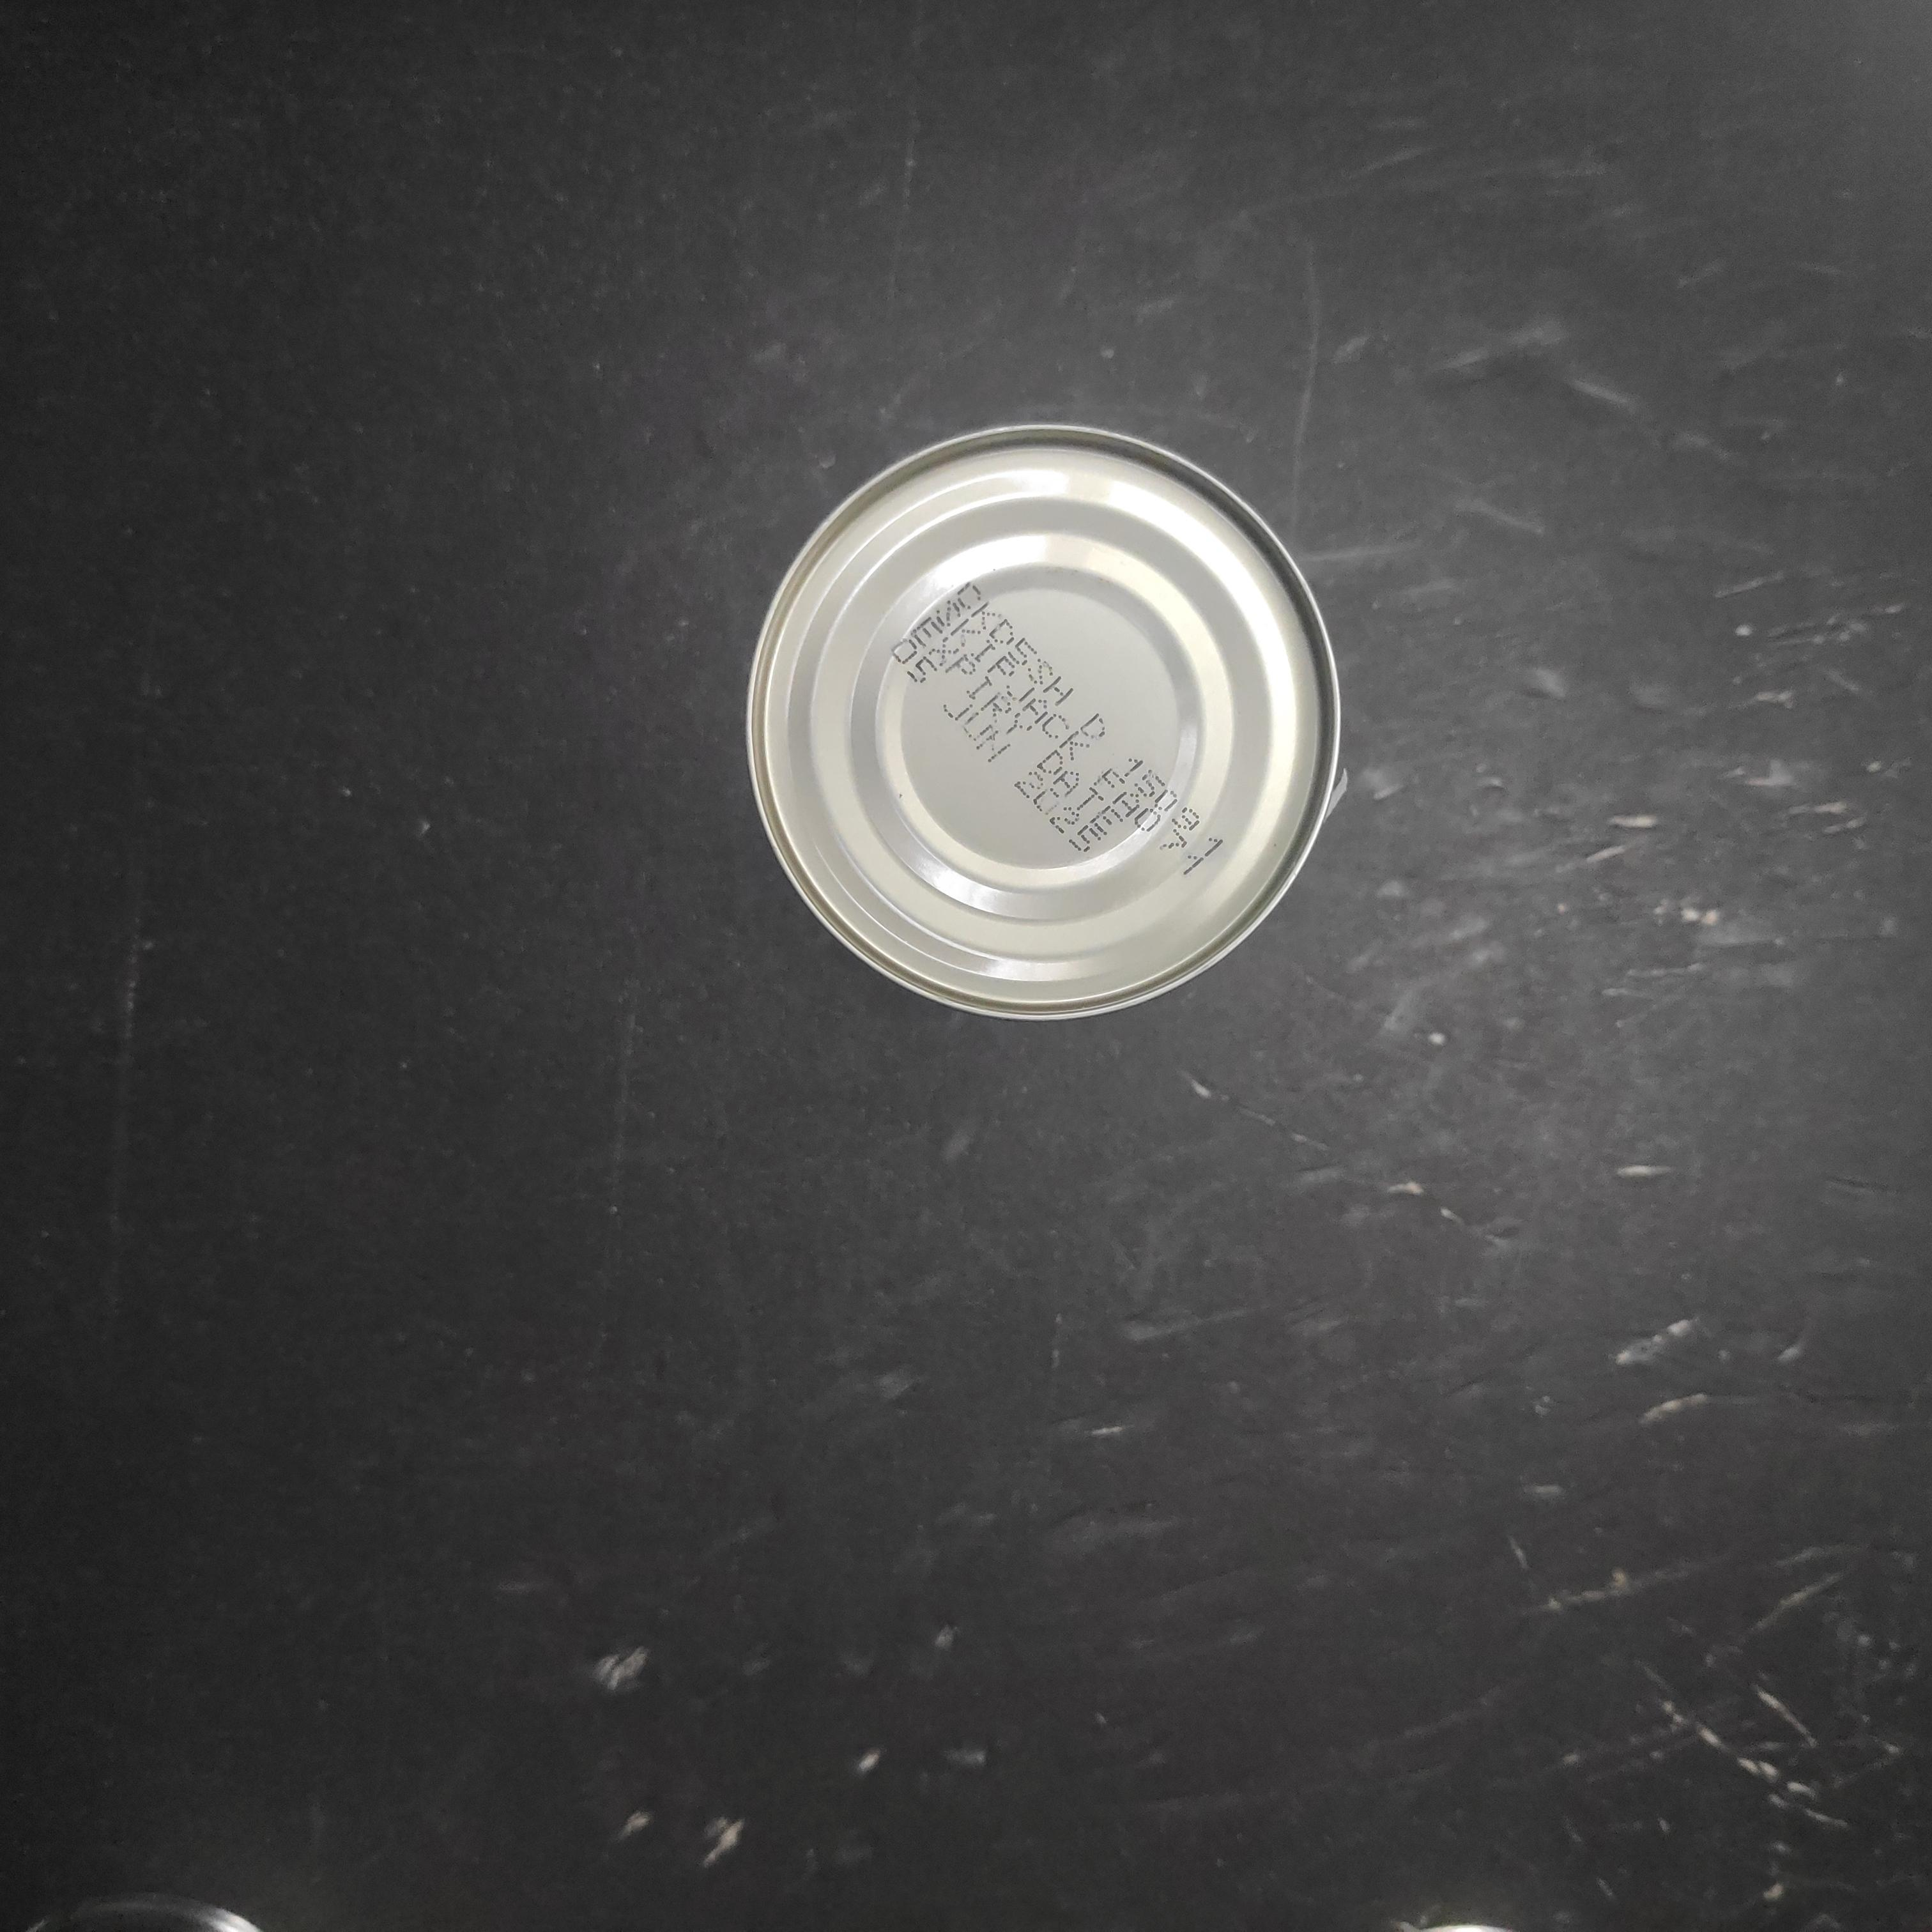No defect: (586, 899, 1192, 1525)
